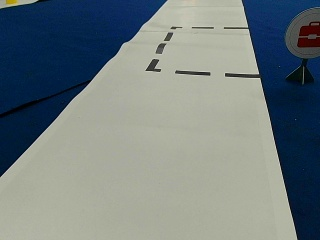company: (285, 7, 320, 58)
